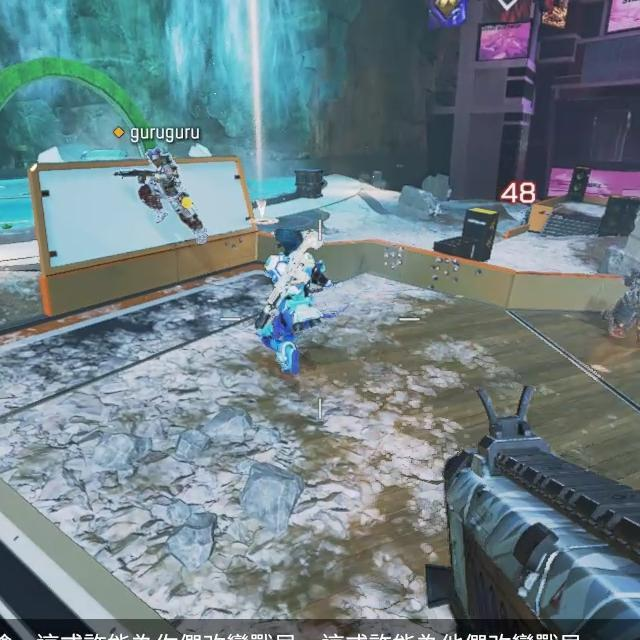avatar: (252, 224, 334, 375), (135, 146, 185, 225)
